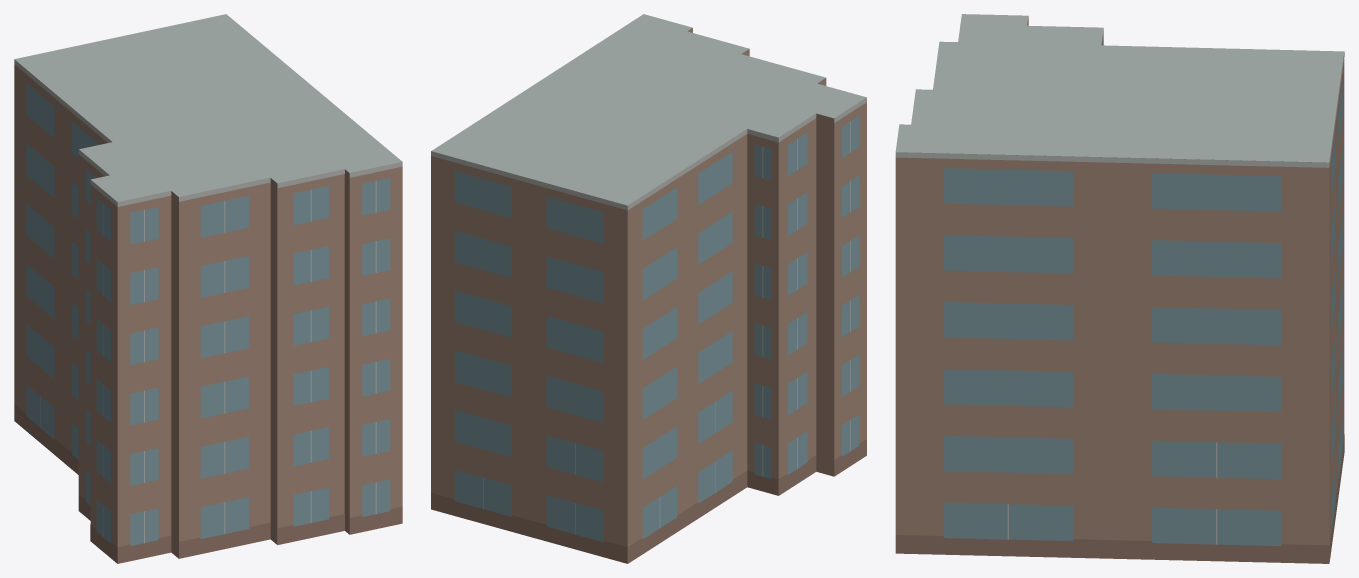
The model's file is survey-upis-32979633.glb.
3 views of the same model, side by side, from view 1: azimuth 30°, elevation 25°; view 2: azimuth 150°, elevation 25°; view 3: azimuth 270°, elevation 25° (orthographic). The views are drawn at different scales.
Parts seen in each view (by area): view 1: survey-upis-32979633.tmp; view 2: survey-upis-32979633.tmp; view 3: survey-upis-32979633.tmp.
Part boxes in pixels (x1,y1,x2,y2): survey-upis-32979633.tmp: [14, 14, 402, 563]; survey-upis-32979633.tmp: [431, 14, 866, 563]; survey-upis-32979633.tmp: [895, 14, 1344, 563].
Size of the model in its own units: 14.53 by 18.3 by 18.56.
